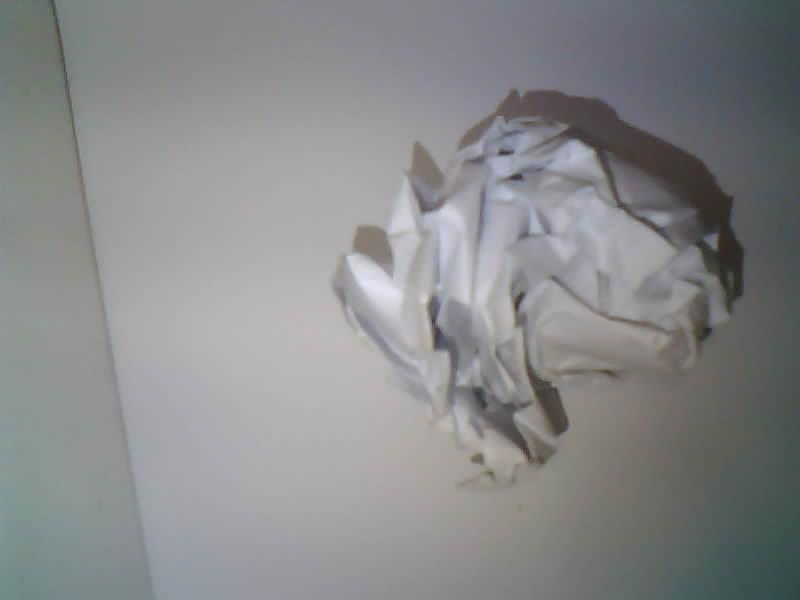biodegradable: (334, 116, 730, 482)
